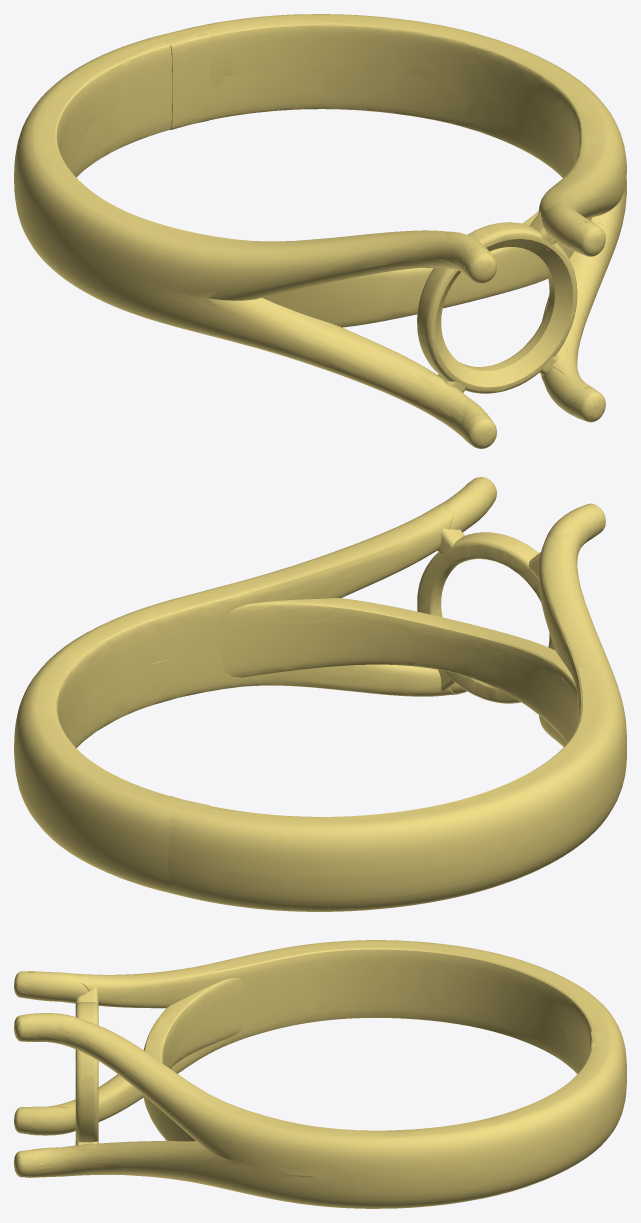
3 renders of one model, top to bottom at view 1: azimuth 30°, elevation 25°; view 2: azimuth 150°, elevation 25°; view 3: azimuth 270°, elevation 25°, orthographic. The views are drawn at different scales.
Parts seen in each view (by area): view 1: lr-0009; view 2: lr-0009; view 3: lr-0009.
Boxes of the visible parts, x1,y1,x2,y2 form: lr-0009: (14, 14, 626, 448); lr-0009: (14, 477, 626, 911); lr-0009: (14, 940, 626, 1208).
Size of the model in its own units: 0.8174 by 0.2911 by 1.
